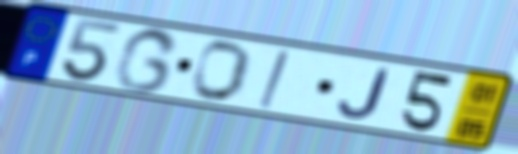5: (58, 15, 125, 85), (399, 68, 455, 133)
G: (111, 26, 182, 95)
I: (255, 47, 293, 112)
J: (336, 66, 394, 121)
O: (189, 39, 257, 103)
